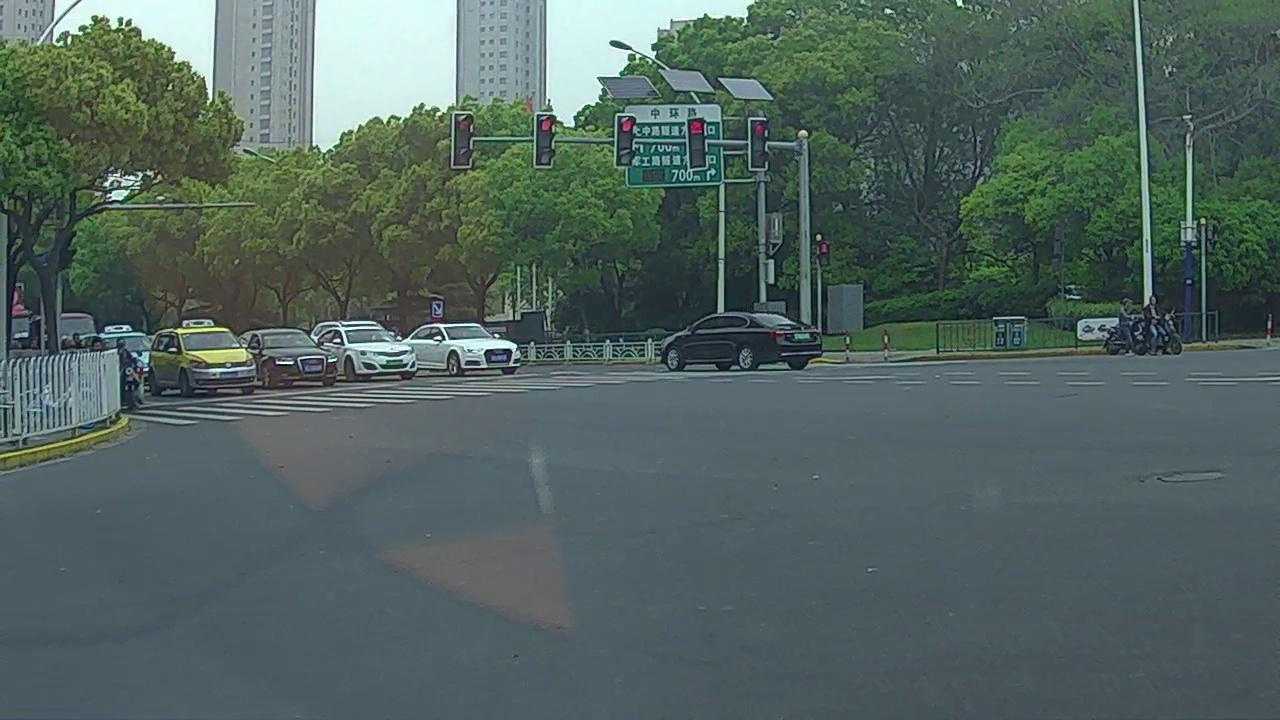traffic_light: (534, 110, 553, 167), (453, 113, 470, 167), (749, 118, 766, 170), (616, 115, 633, 163), (689, 120, 705, 168)
